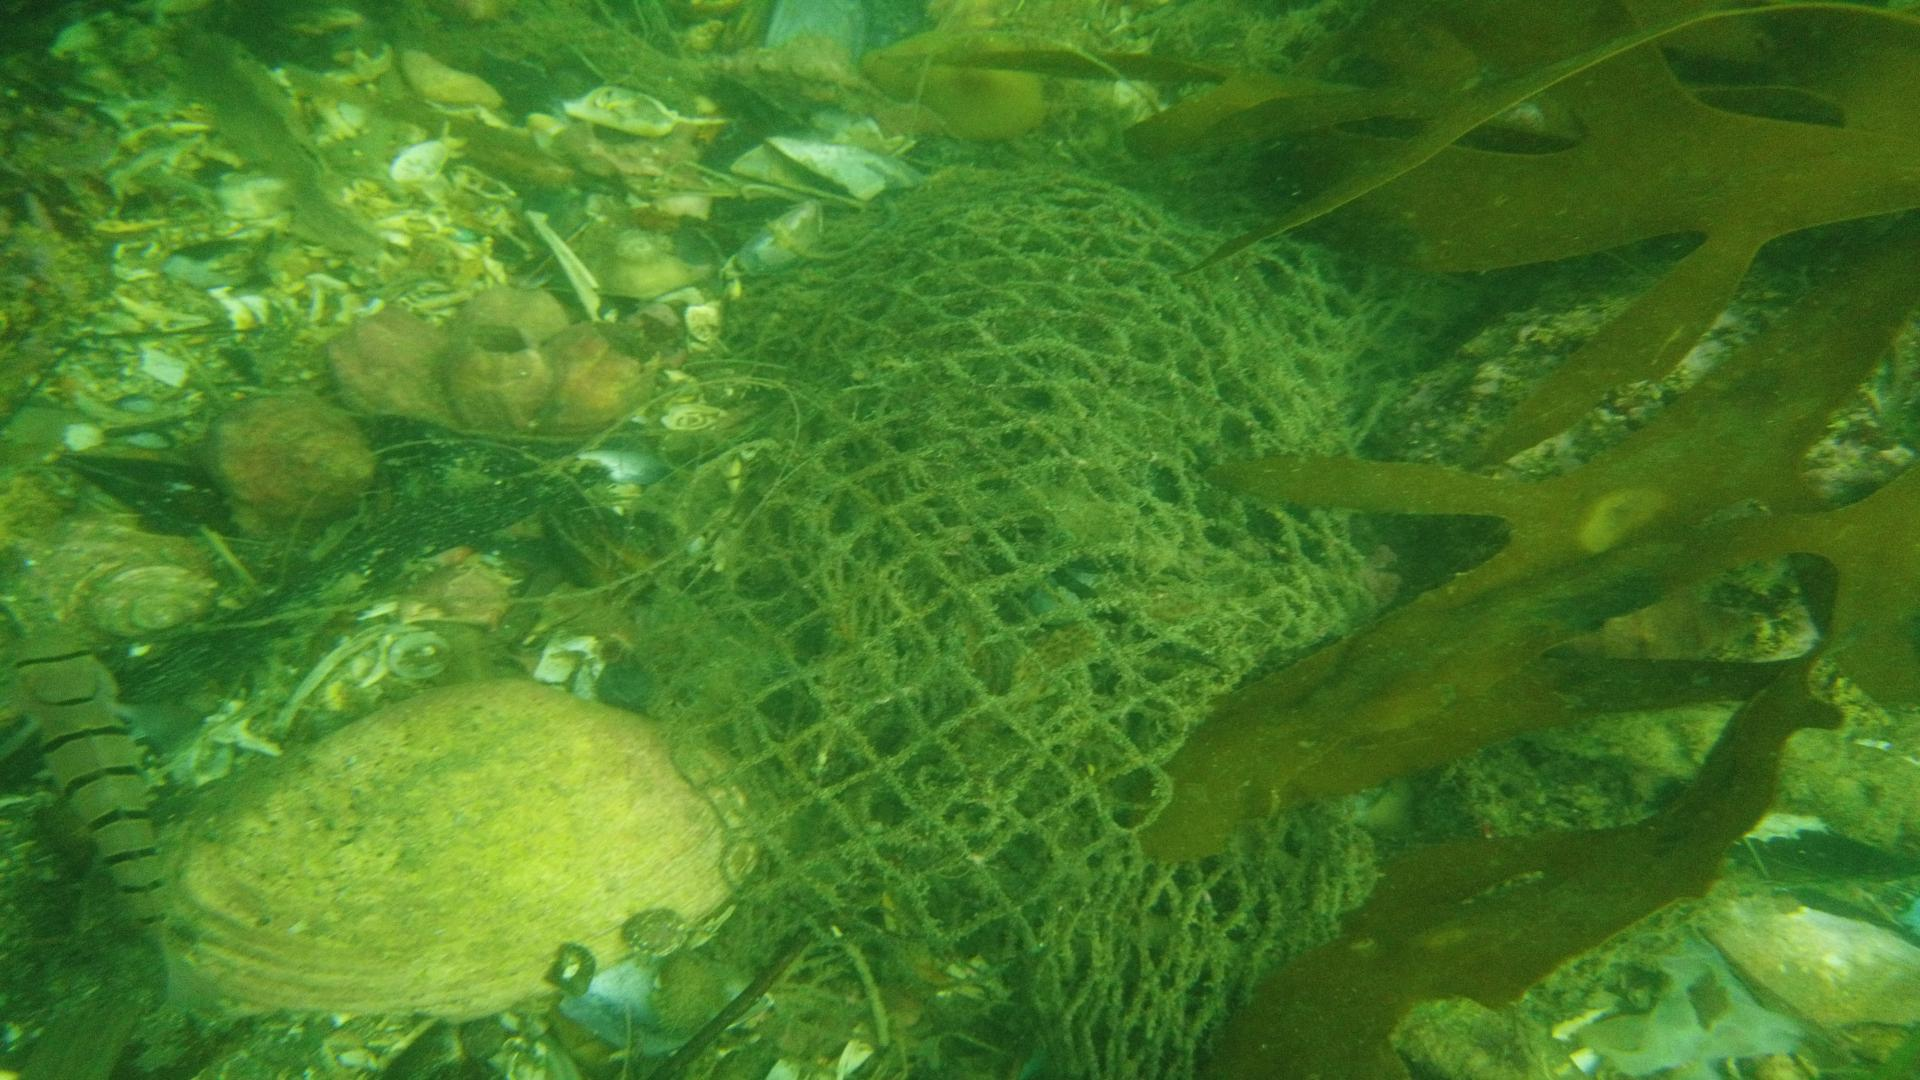fish net: (682, 171, 1369, 1080)
